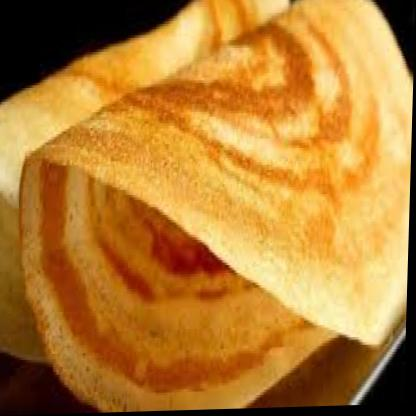dosa: (15, 0, 416, 415), (0, 0, 290, 366)
